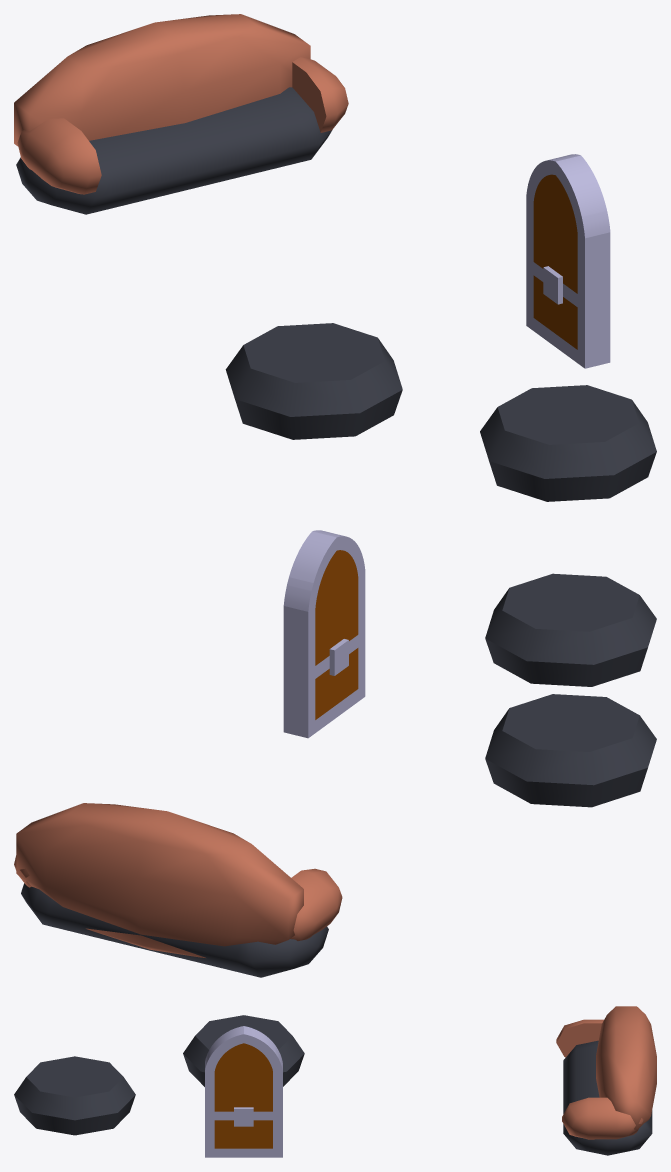
File: couch.fbx
The picture shows the model from 3 angles, top to bottom: view 1: azimuth 30°, elevation 25°; view 2: azimuth 150°, elevation 25°; view 3: azimuth 270°, elevation 25°; orthographic projection. The views are drawn at different scales.
Visible parts, largest first — view 1: mergedBlocks; view 2: mergedBlocks; view 3: mergedBlocks.
Boxes of the visible parts, x1,y1,x2,y2 form: mergedBlocks: (14,14,656,501); mergedBlocks: (14,530,656,977); mergedBlocks: (14,1006,656,1157).
Size of the model in its own units: 14.47 by 7.23 by 32.97.
